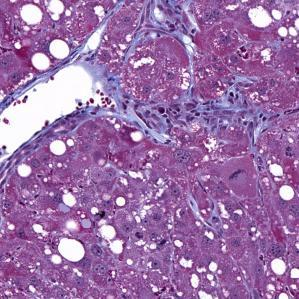fibrosis: (108, 81, 244, 144)
